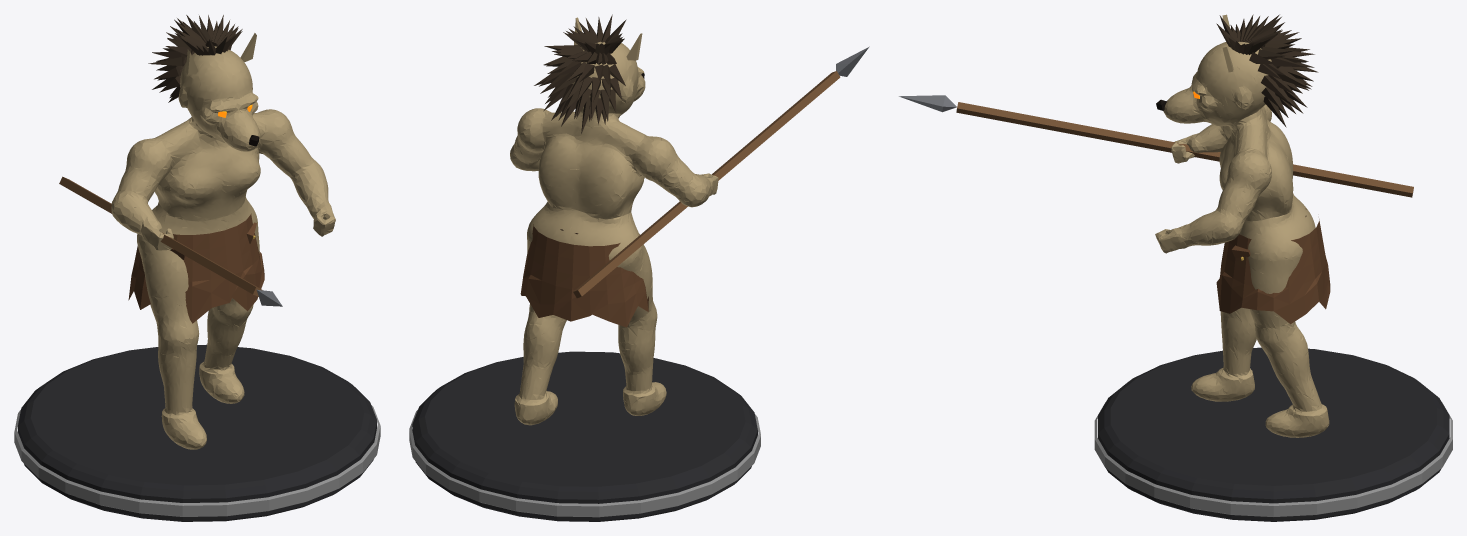
The model's file is gnoll.glb.
3 views of the same model, side by side, from view 1: azimuth 30°, elevation 25°; view 2: azimuth 150°, elevation 25°; view 3: azimuth 270°, elevation 25° (orthographic). The views are drawn at different scales.
Visible parts, largest first — view 1: gnoll; view 2: gnoll; view 3: gnoll.
Boxes of the visible parts, box(x1,y1,x2,y2) form: gnoll: box(14, 15, 380, 521); gnoll: box(409, 14, 869, 521); gnoll: box(899, 14, 1452, 521).
Bounding box in the file's own units: 0.856 × 1.12 × 1.32.
